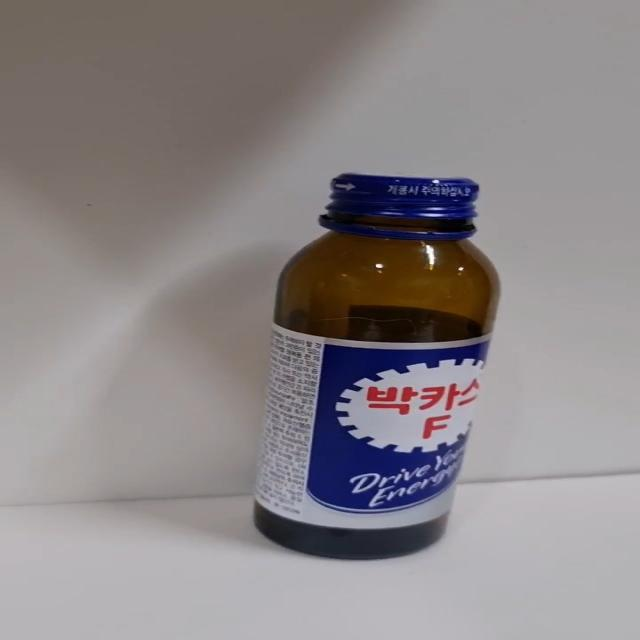Glass: (251, 173, 503, 562)
